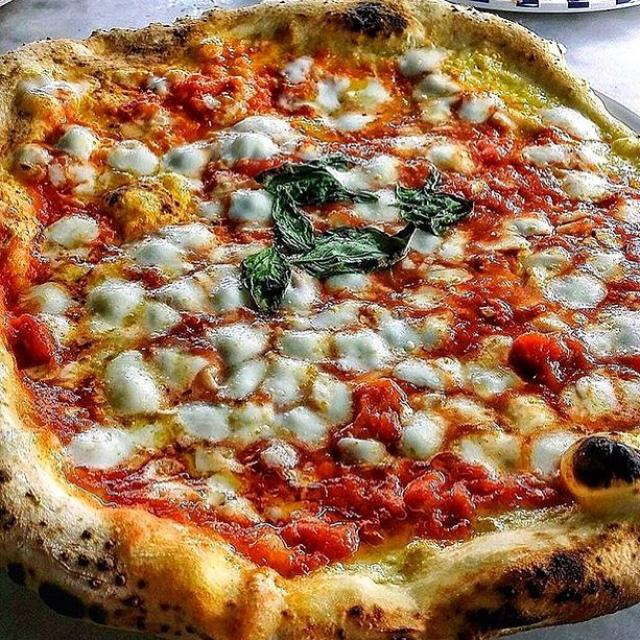basil: (294, 219, 424, 281), (383, 161, 479, 241), (251, 153, 379, 209), (236, 238, 300, 320), (262, 186, 322, 252)
pizza: (0, 0, 640, 640)
